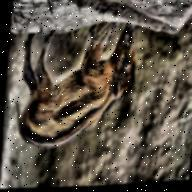boar: (9, 9, 154, 160)
